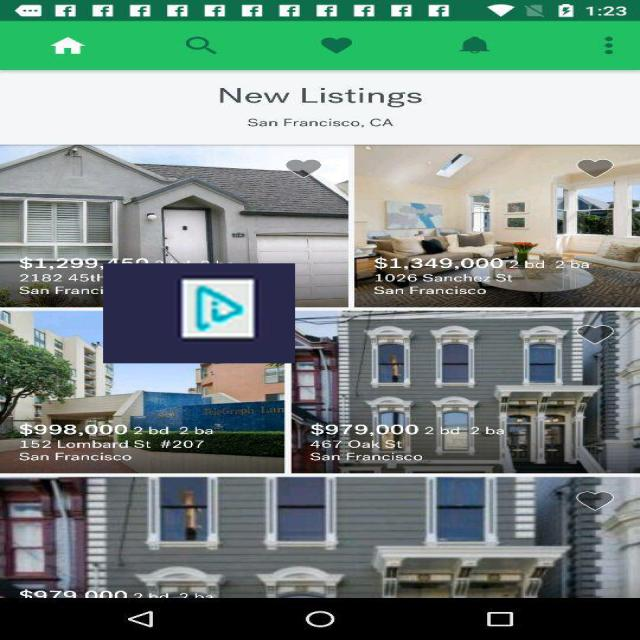sneaking: (103, 264, 295, 364)
